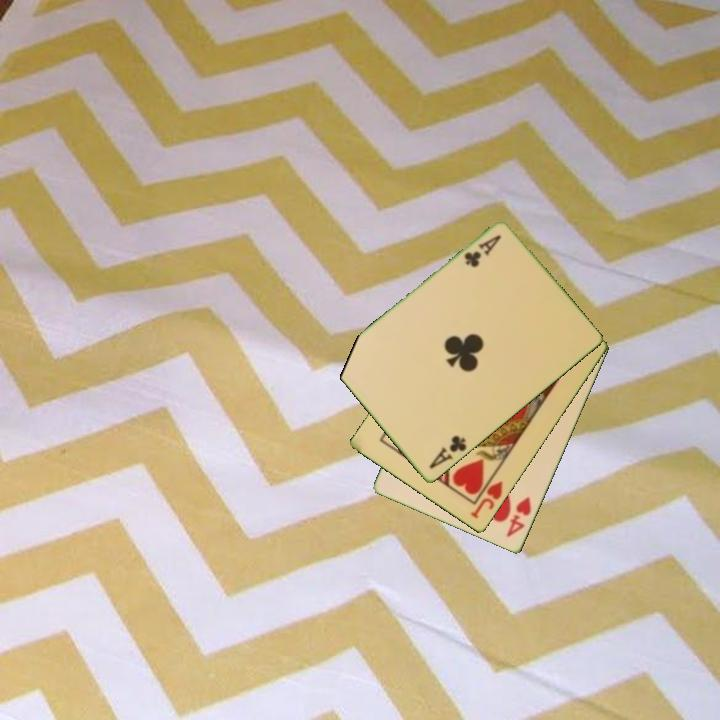4h: (503, 493, 534, 541)
Ac: (426, 432, 470, 472), (460, 232, 504, 271)
Jh: (467, 478, 506, 522)
